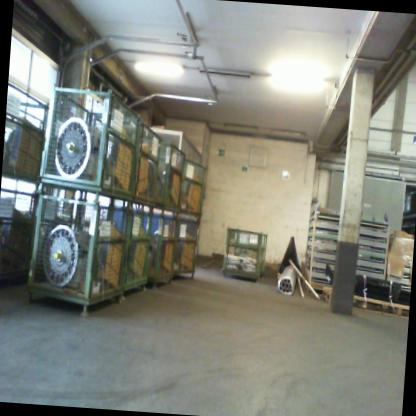pallet: (320, 286, 410, 326), (298, 273, 314, 295)
stillage: (24, 190, 131, 317), (36, 81, 145, 204), (1, 77, 51, 188), (0, 184, 34, 290), (121, 207, 156, 304), (219, 219, 272, 282), (134, 119, 164, 214), (149, 211, 179, 297), (154, 133, 185, 216), (172, 211, 202, 286), (177, 155, 209, 221)
